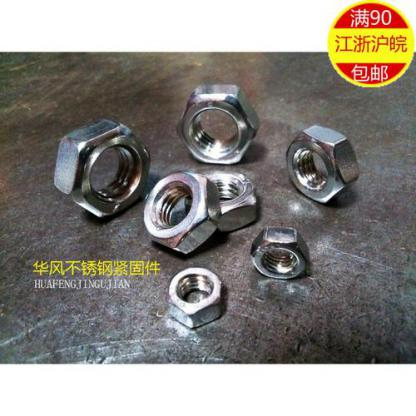FOD: (52, 115, 150, 222), (141, 166, 221, 257), (176, 80, 259, 164), (284, 122, 367, 205), (190, 166, 258, 236), (166, 265, 226, 331), (249, 222, 314, 281)
